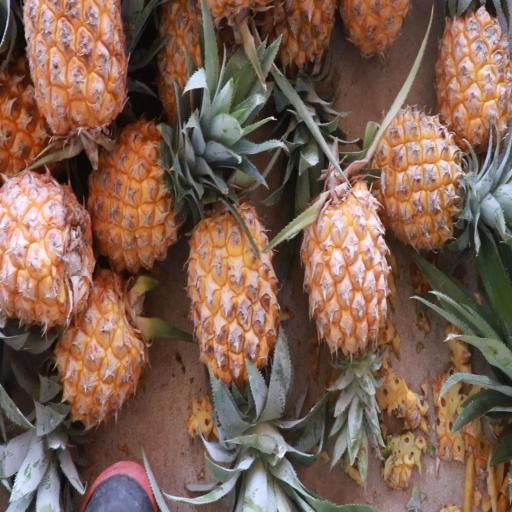Pineapple - v8 v1: (184, 196, 282, 398), (300, 171, 395, 357), (46, 261, 150, 430), (20, 1, 131, 157), (0, 168, 98, 334), (85, 114, 180, 279), (371, 103, 472, 253), (433, 0, 509, 150)
